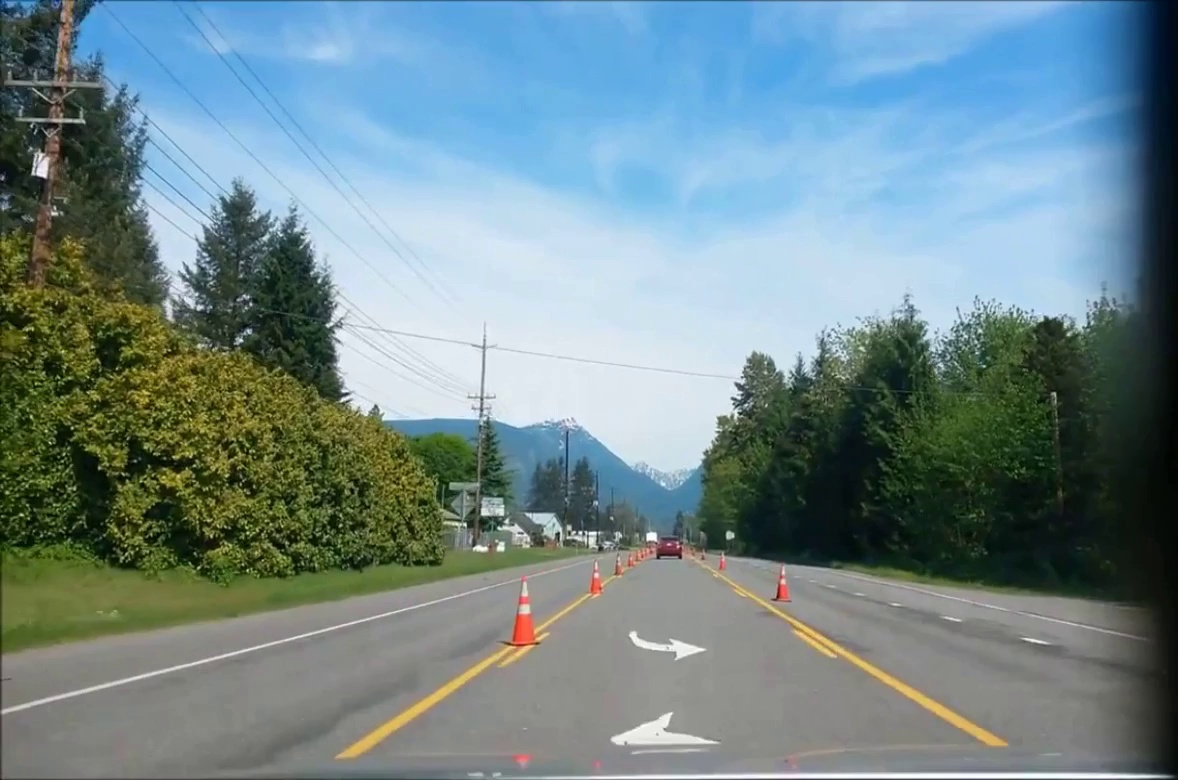Cone: (508, 575, 538, 647), (774, 565, 795, 600), (589, 558, 603, 594)
